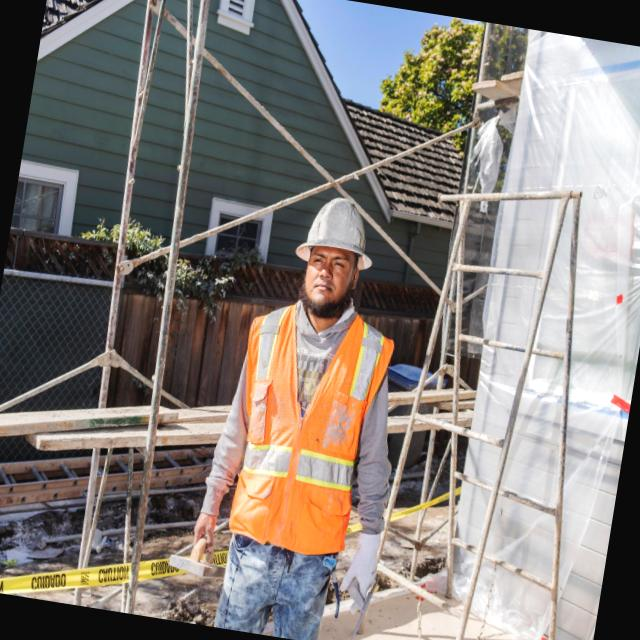helmet: (281, 190, 387, 289)
no-goggles: (305, 248, 358, 278)
vest: (217, 296, 406, 558)
